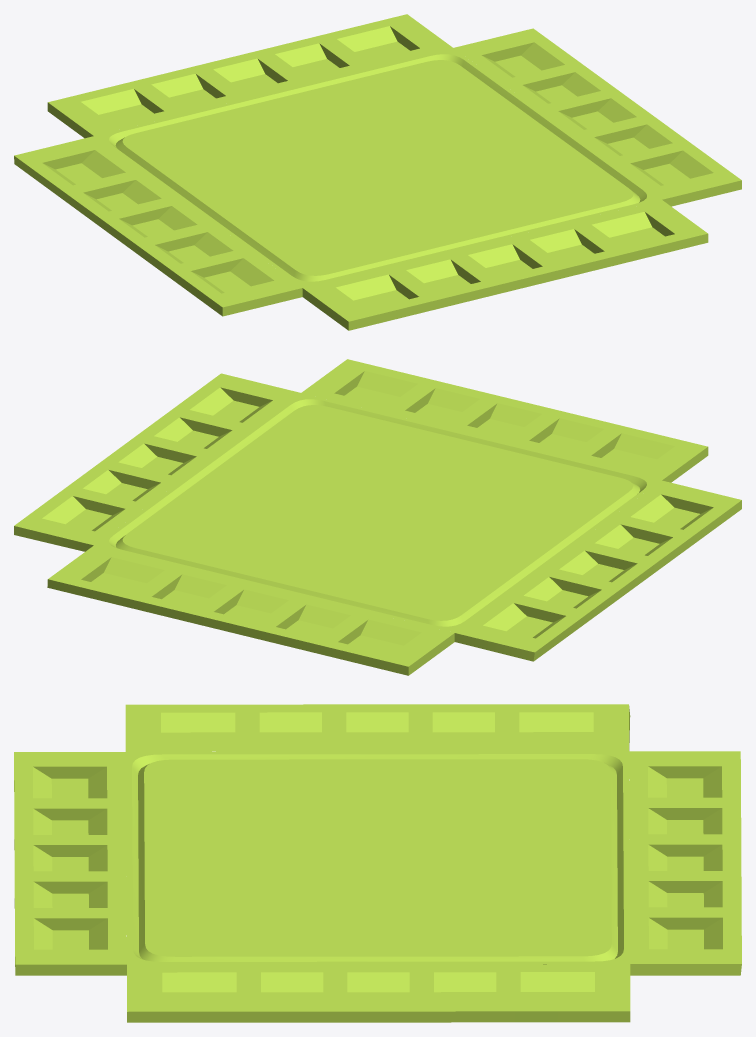
The model's file is RoundCorr_Floor_XType_A.FBX.
3 views of the same model, one above another, from view 1: azimuth 30°, elevation 25°; view 2: azimuth 150°, elevation 25°; view 3: azimuth 270°, elevation 25° (orthographic). The views are drawn at different scales.
Parts seen in each view (by area): view 1: RoundCorr_Floor_XType_A; view 2: RoundCorr_Floor_XType_A; view 3: RoundCorr_Floor_XType_A.
Boxes of the visible parts, box(x1,y1,x2,y2) form: RoundCorr_Floor_XType_A: box(14, 14, 741, 330); RoundCorr_Floor_XType_A: box(14, 359, 741, 675); RoundCorr_Floor_XType_A: box(14, 704, 741, 1022).
Bounding box in the file's own units: 600 × 10.88 × 600.
